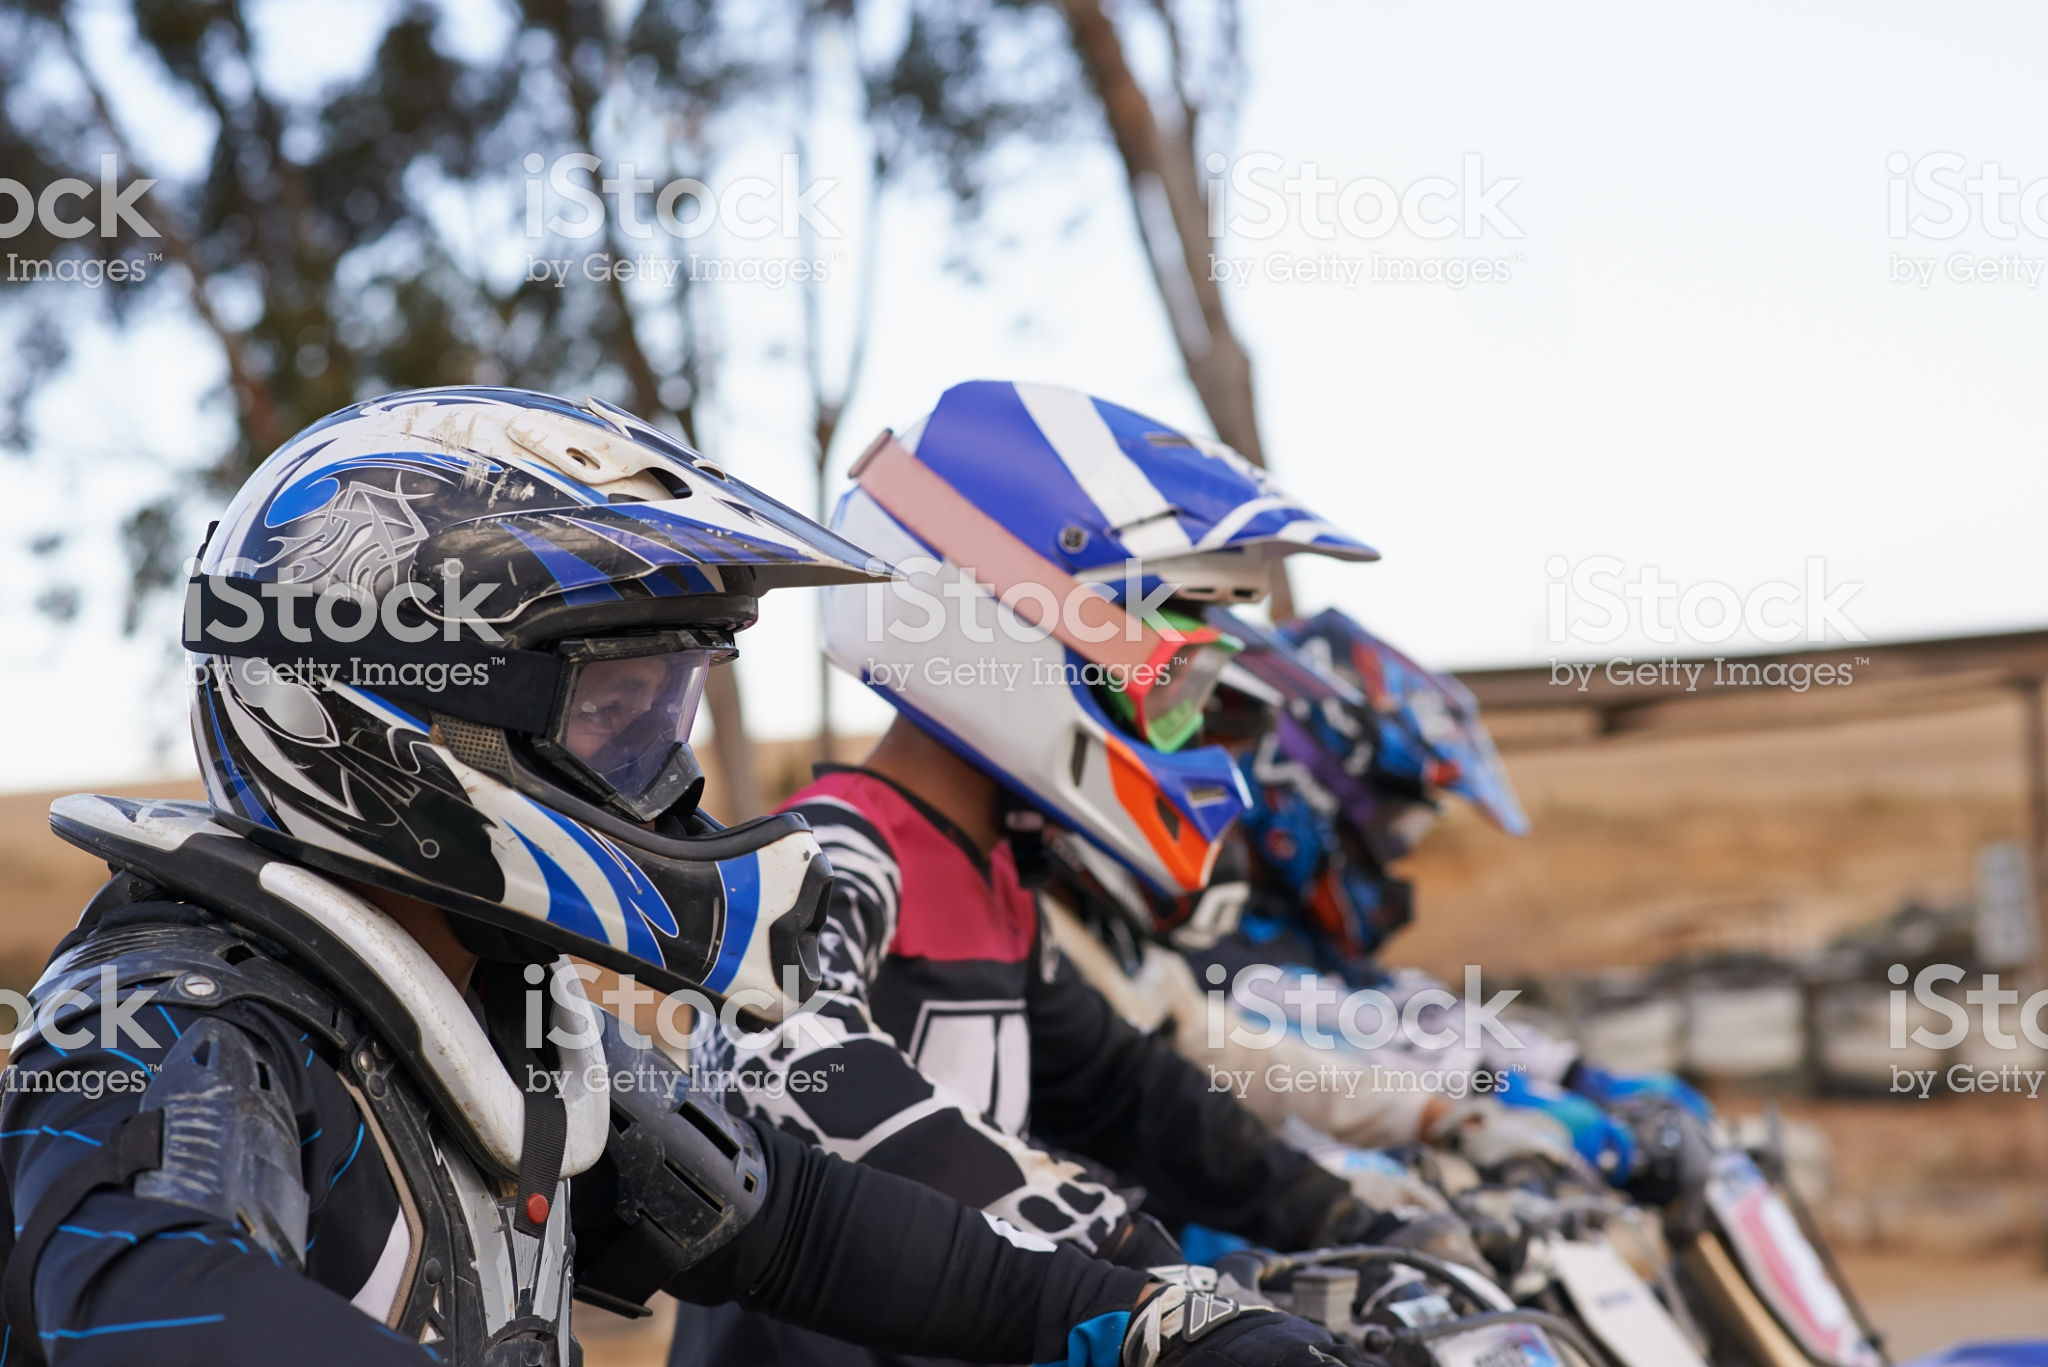helmet: (215, 384, 794, 996), (840, 316, 1298, 912)
